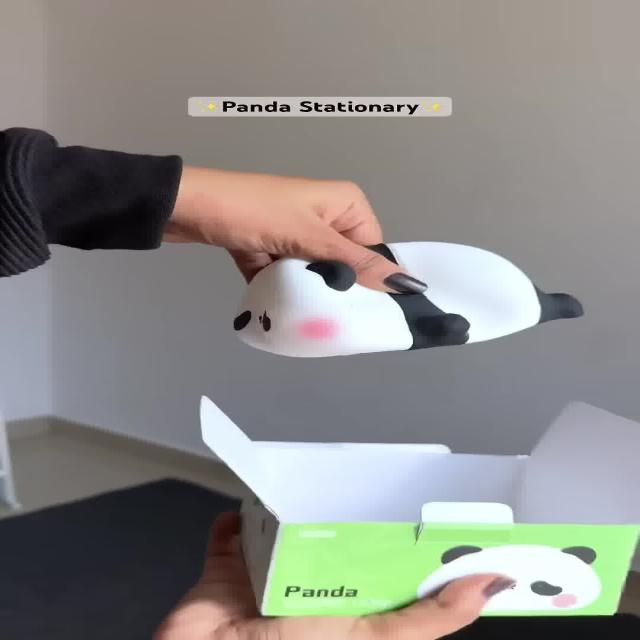paper weight: (208, 205, 602, 370)
